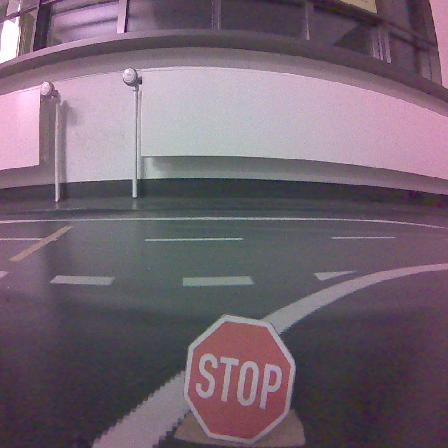STOP: (184, 315, 294, 442)
